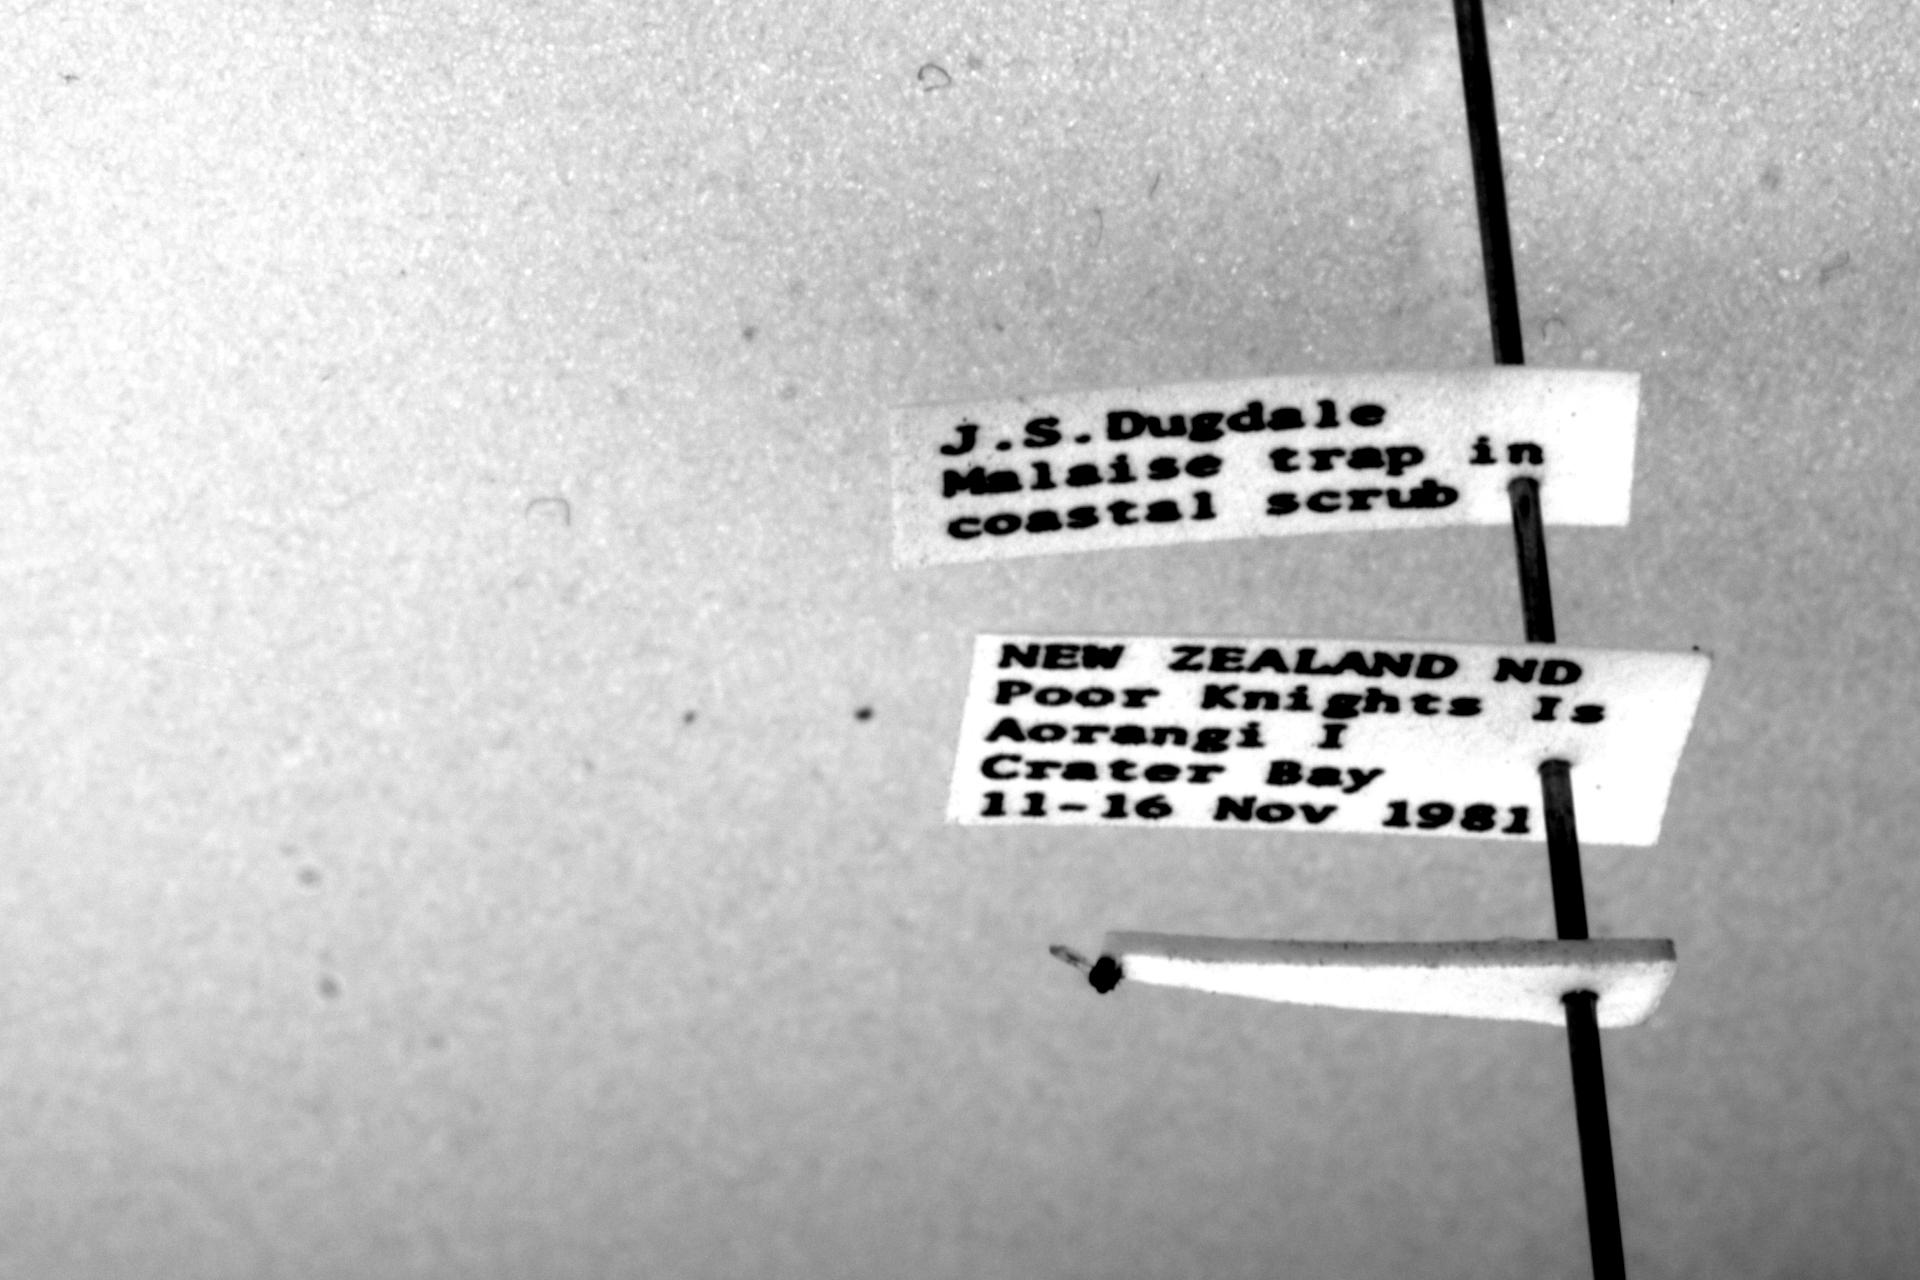typed_label: (949, 634, 1710, 848), (892, 368, 1639, 570)
